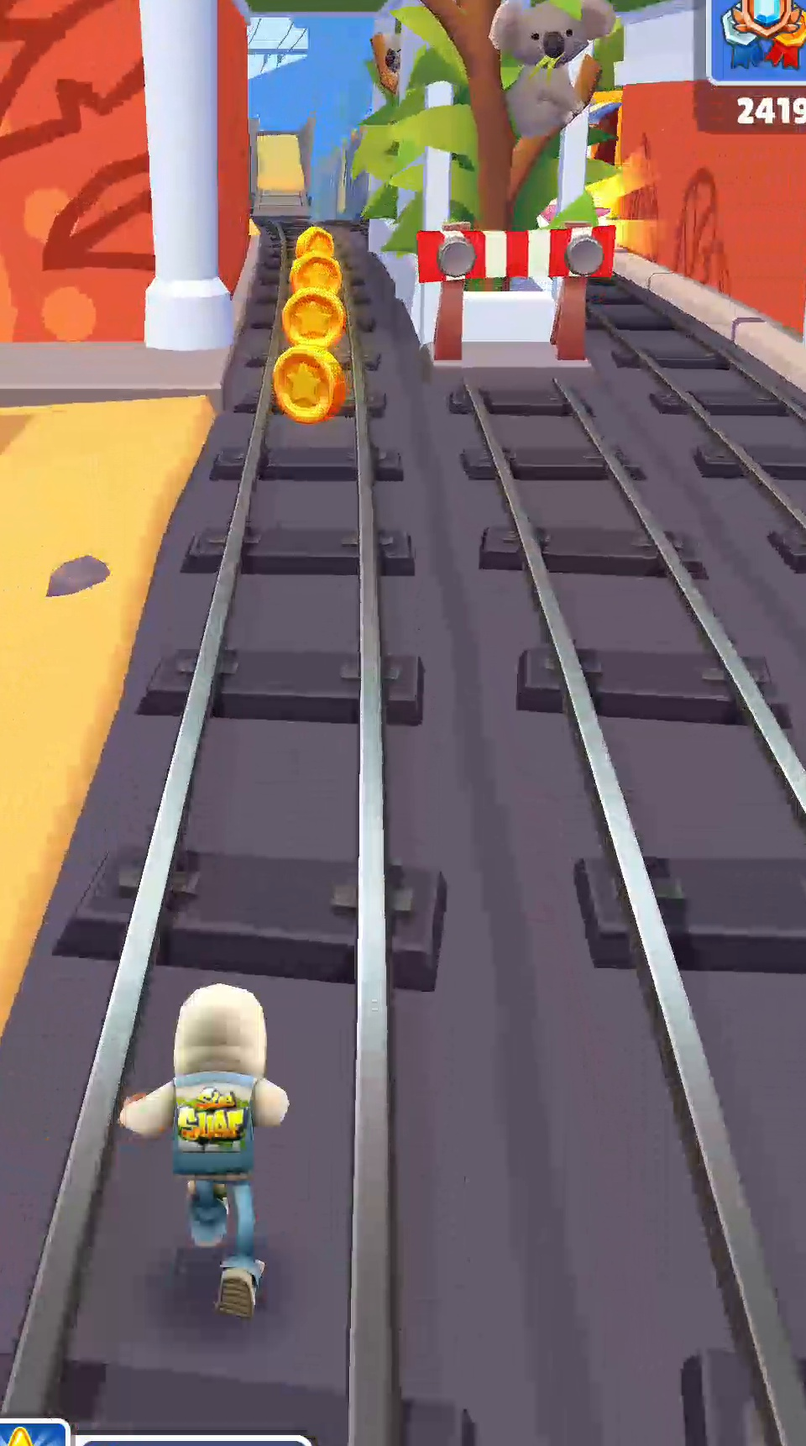block pillar: (353, 0, 620, 365)
climber: (254, 118, 313, 219)
